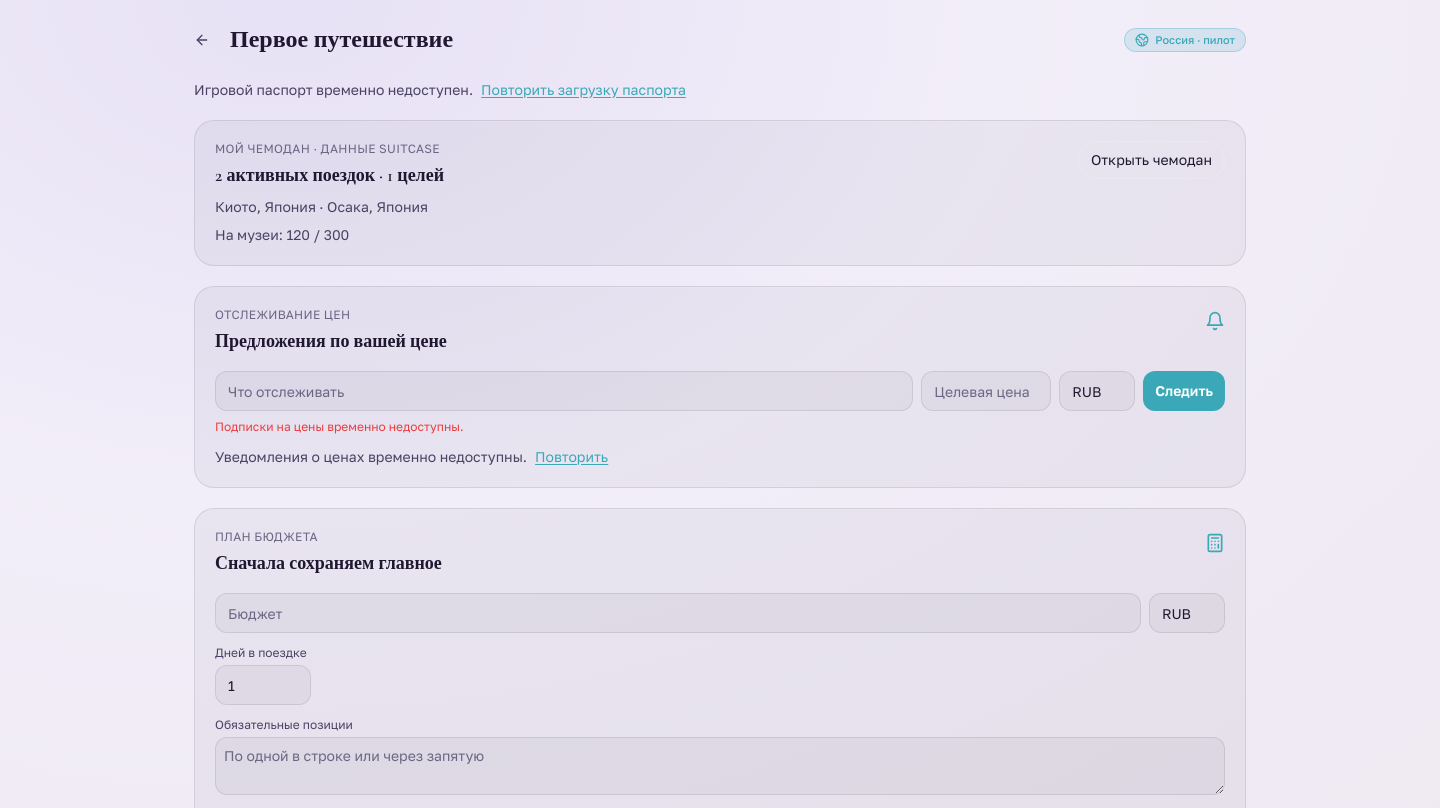
it: LiveGamePanel Suitcase summary › retries the passport independently and recovers from an API error
Expected: the text "Игровой паспорт временно недоступен." is shown, [194, 80, 473, 100]
Click the button "Повторить загрузку паспорта": (584, 90) [481, 80, 686, 100]
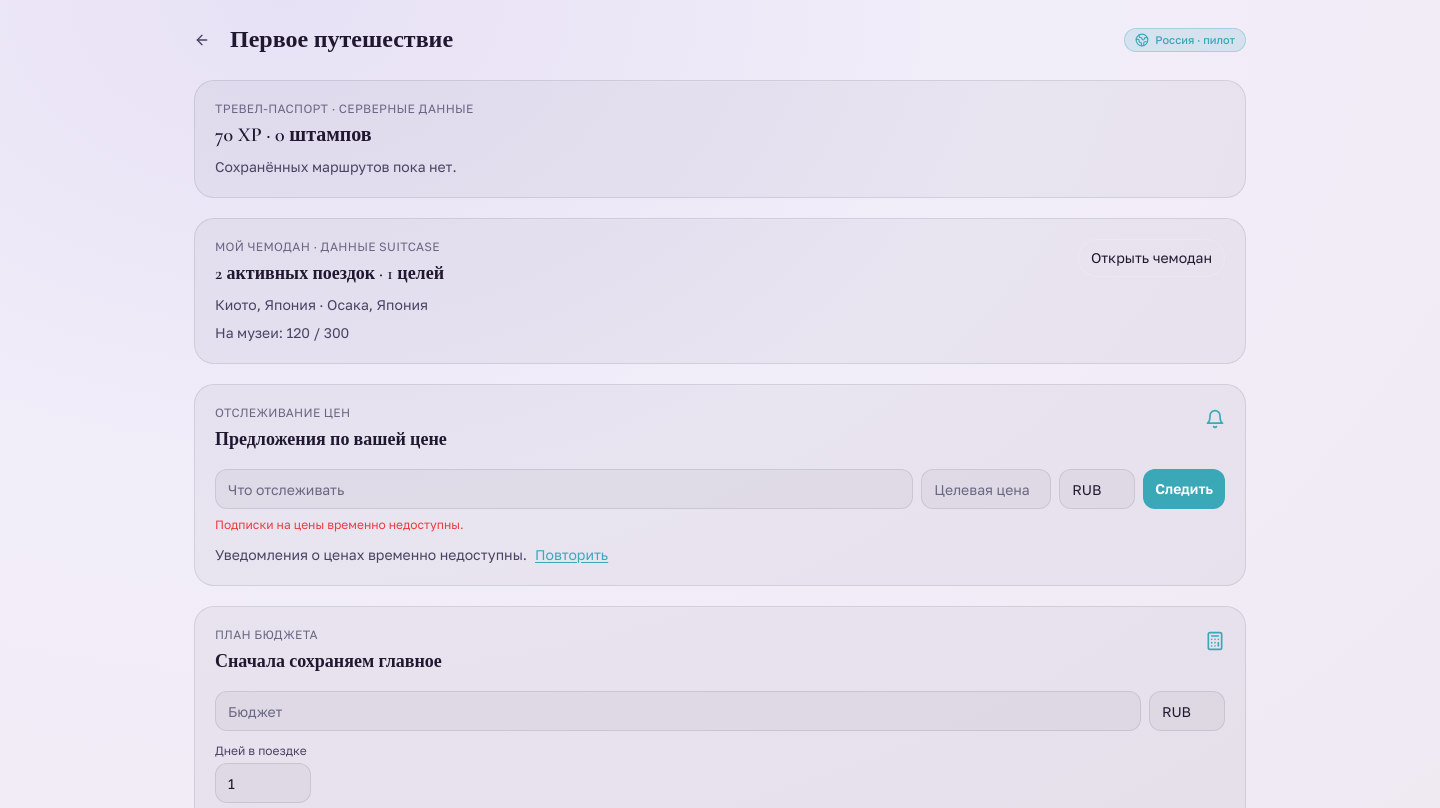
Expected: the text "70 XP · 0 штампов" is shown, [215, 123, 372, 147]
